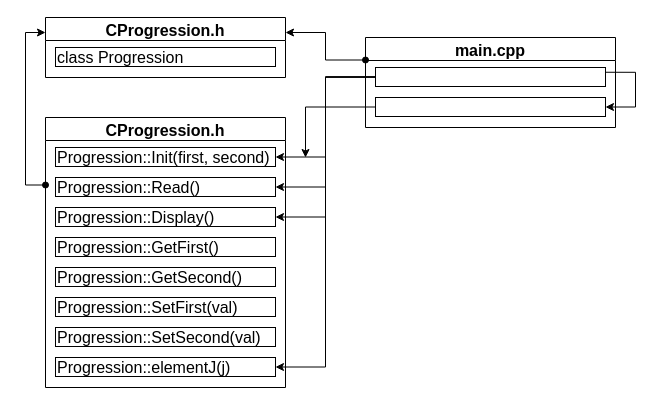
Some shapes in this 661 by 405 pixel diagram are drawn without their labels. Each missing label, with the centre of its shape:
main(): pixel 490 76
makeProgression(first, second): pixel 490 106
